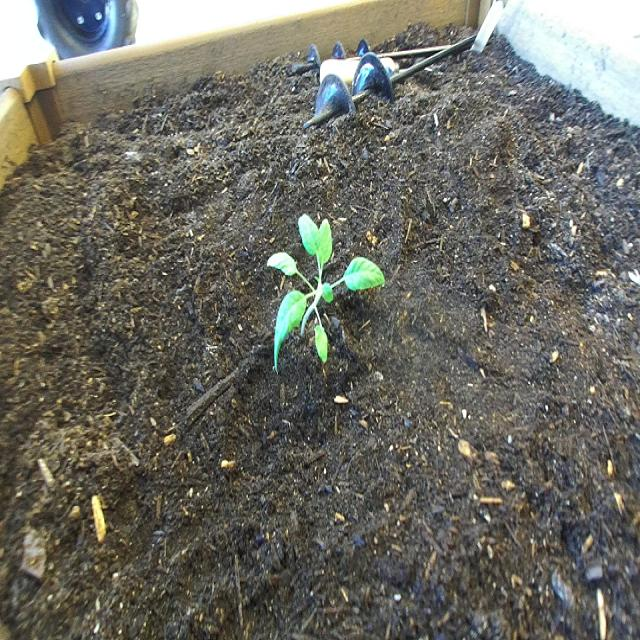Healthy: (259, 196, 392, 386)
